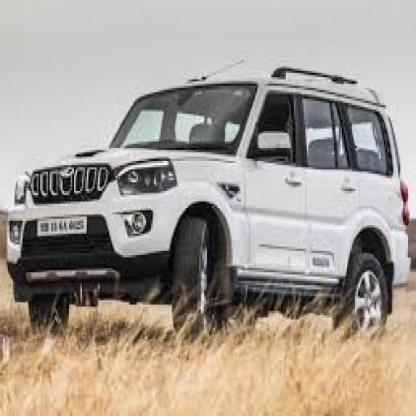car: (1, 55, 416, 344)
